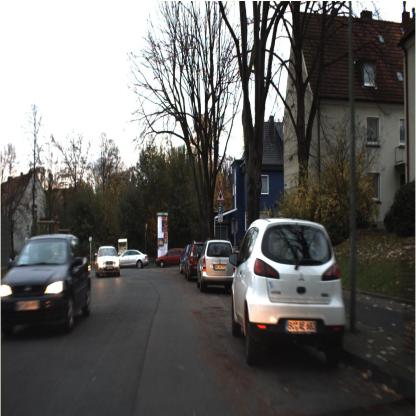danger: (213, 182, 227, 206)
